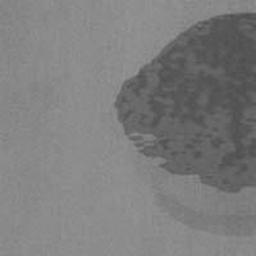Oil spot: (114, 12, 256, 238)
